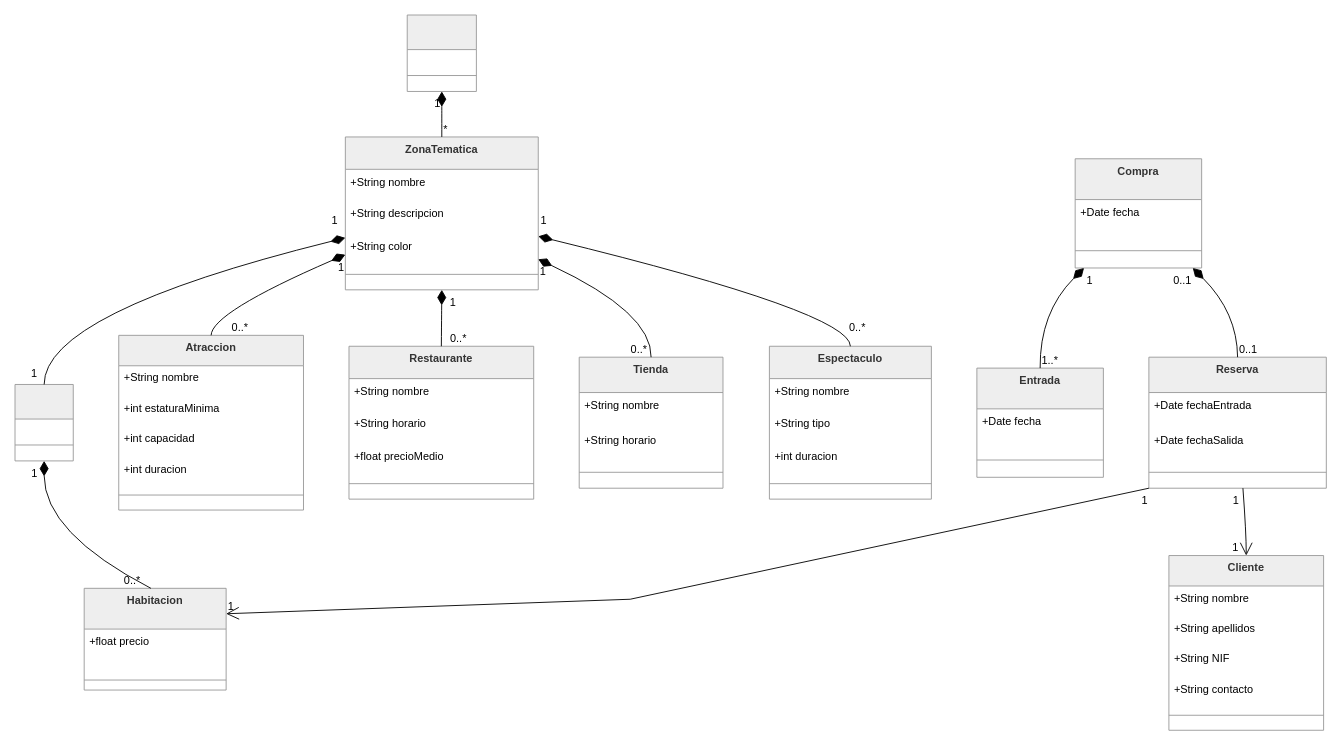
Image size: 1341x745. Some labels were removed from this diagram. Here are the shapes that lost their labels. From the top down, the centre of each, then its label:
At [441,52]: "Parque".
At [43,422]: "Hotel".
